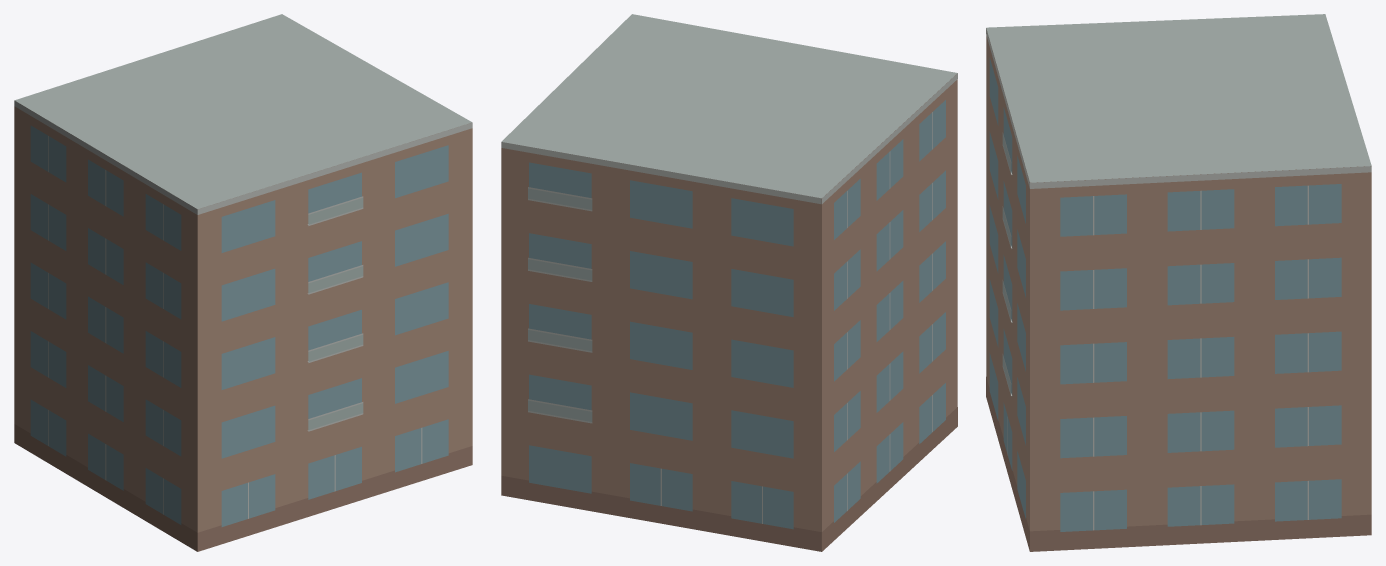
The model's file is survey-upis-32997411.glb.
3 renders of one model, left to right at view 1: azimuth 30°, elevation 25°; view 2: azimuth 150°, elevation 25°; view 3: azimuth 270°, elevation 25°, orthographic. The views are drawn at different scales.
Parts seen in each view (by area): view 1: survey-upis-32997411.tmp; view 2: survey-upis-32997411.tmp; view 3: survey-upis-32997411.tmp.
Boxes of the visible parts, x1,y1,x2,y2 form: survey-upis-32997411.tmp: (14,14,472,551); survey-upis-32997411.tmp: (501,14,957,551); survey-upis-32997411.tmp: (986,14,1371,551).
Size of the model in its own units: 14.13 by 14.4 by 13.65.
